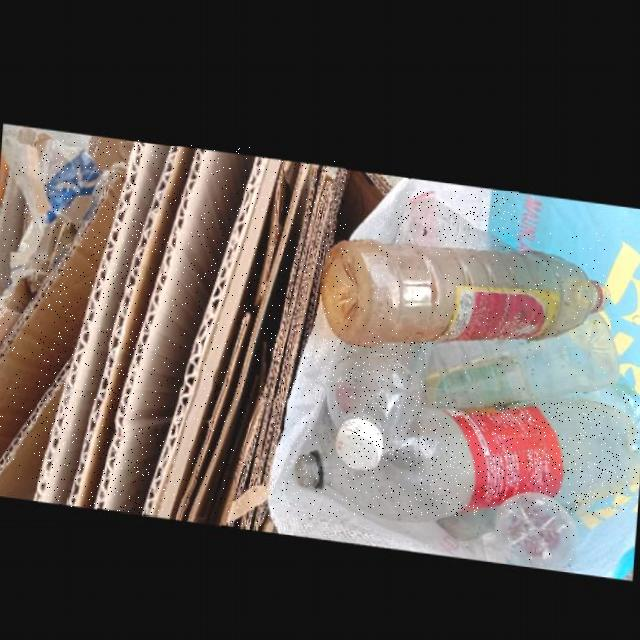paper: (97, 147, 257, 513), (144, 154, 283, 516), (38, 140, 172, 505), (68, 145, 198, 508), (222, 161, 346, 528), (0, 161, 130, 482), (0, 277, 31, 348)
plastic: (297, 389, 640, 516), (322, 233, 611, 341), (426, 303, 621, 402), (328, 334, 434, 464), (497, 483, 580, 561), (396, 192, 519, 243)
